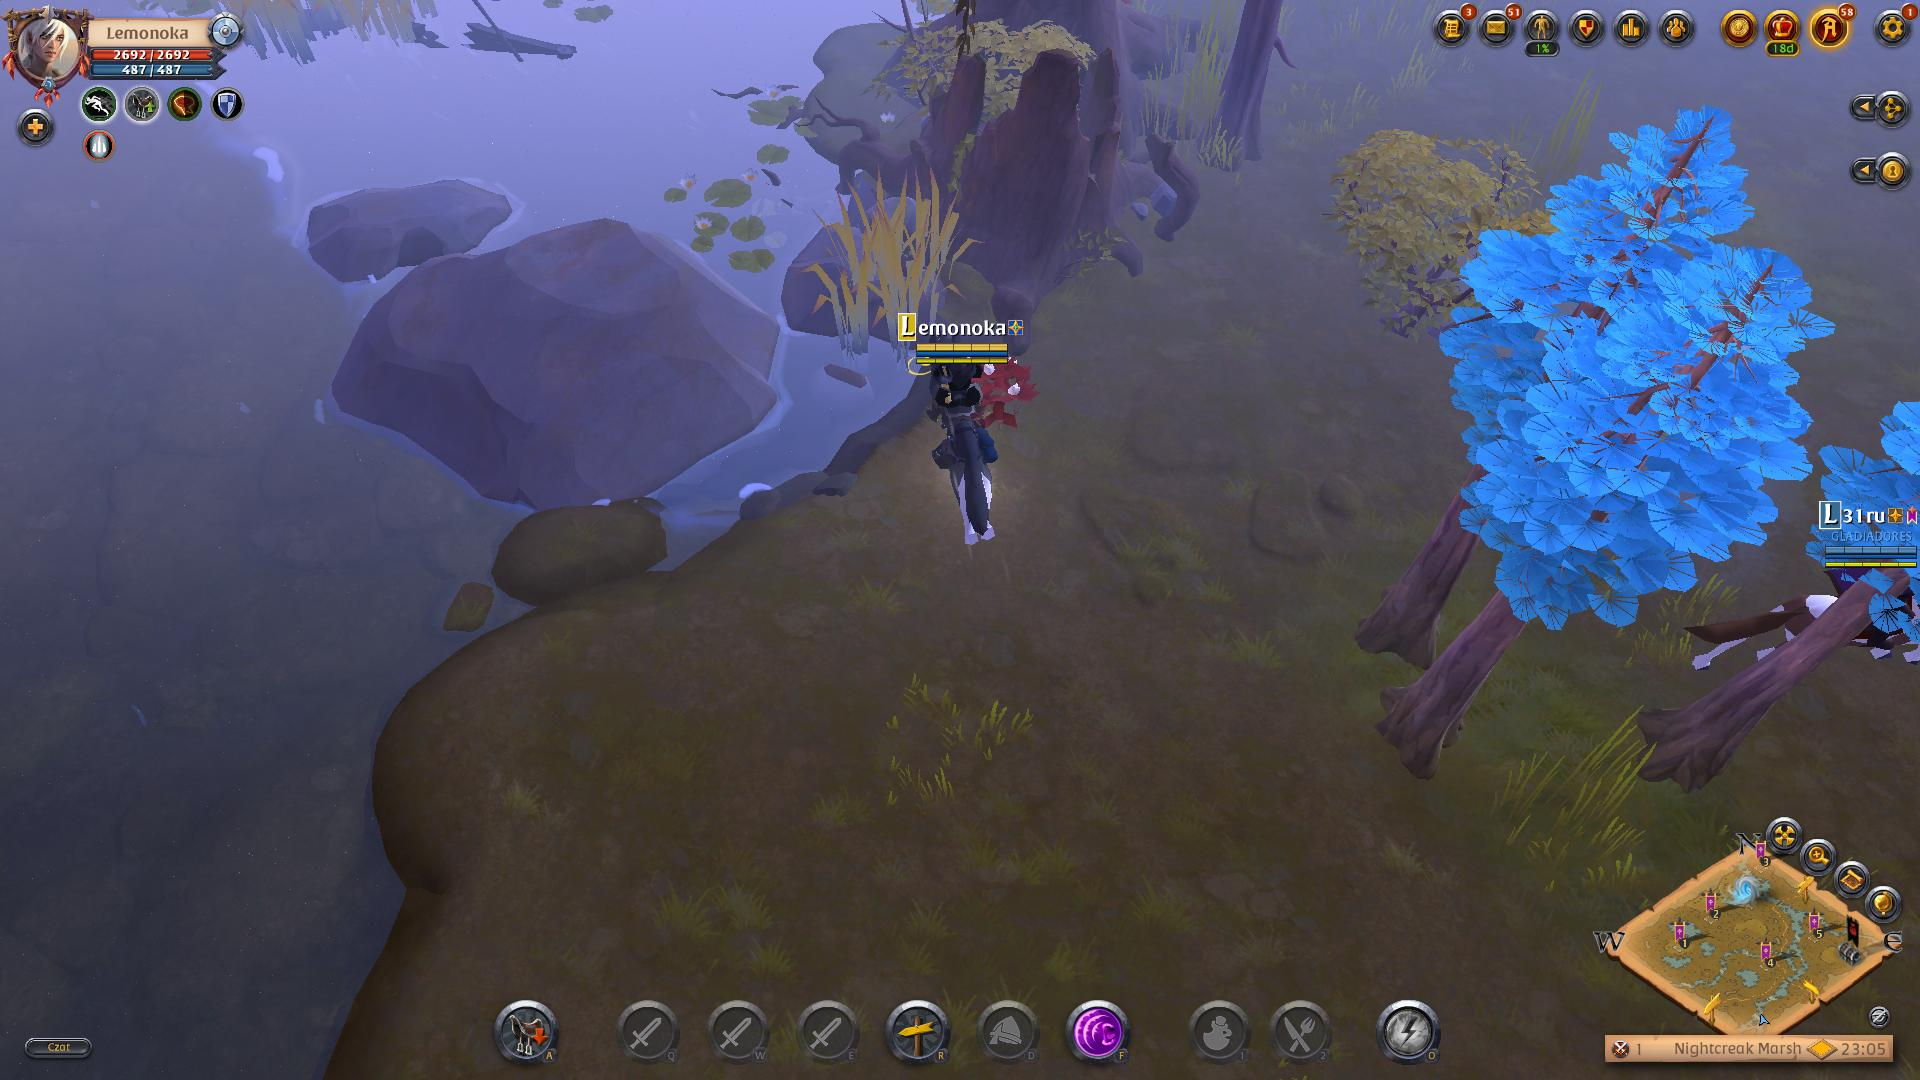wood tier 4: (1465, 236, 1837, 625)
